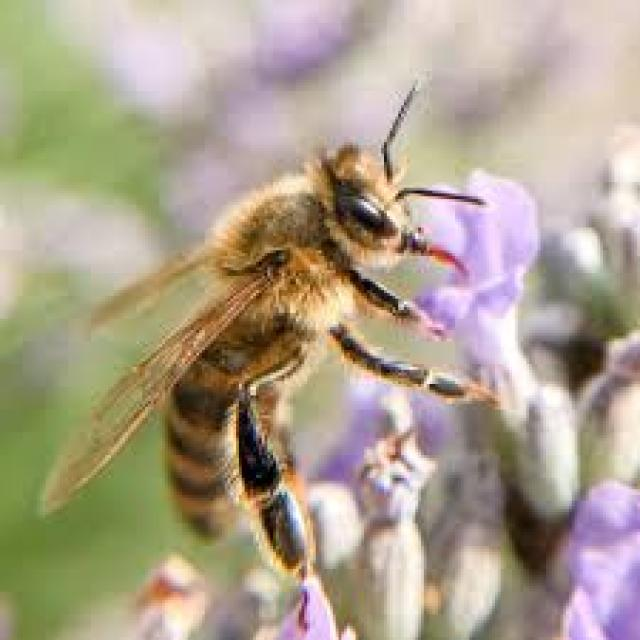Bees: (40, 78, 494, 586)
